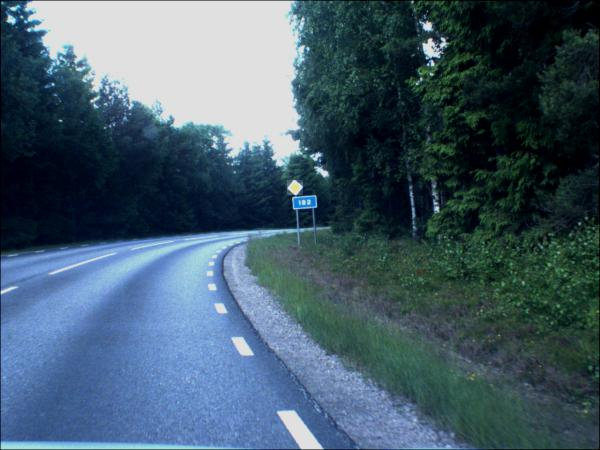PRIORITY_ROAD: (288, 181, 305, 197)
